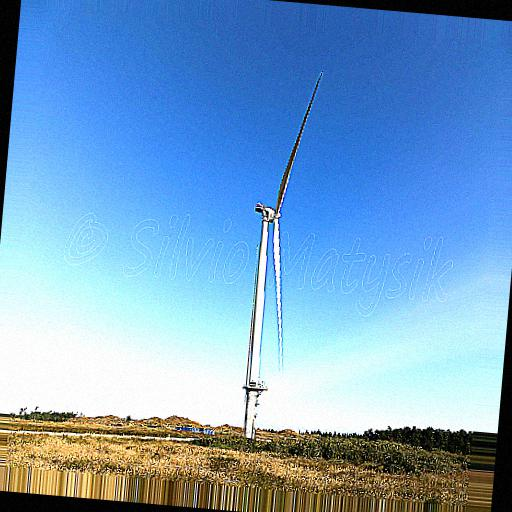wind turbine: (241, 74, 322, 443)
